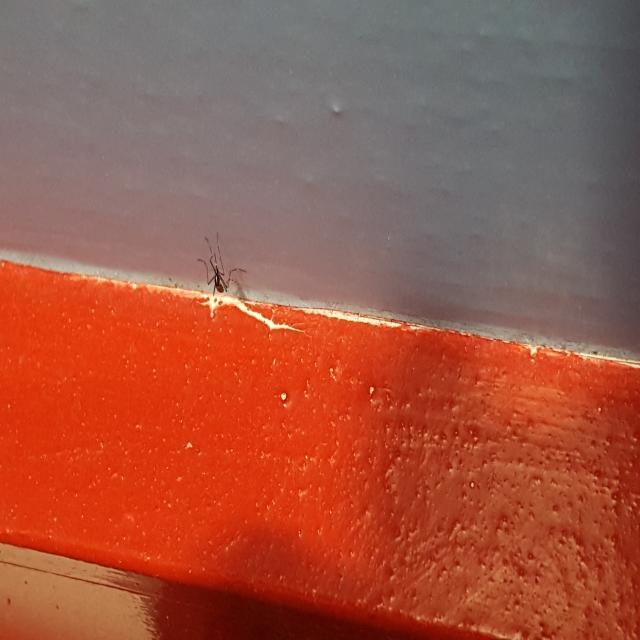albopictus: (194, 224, 248, 302)
